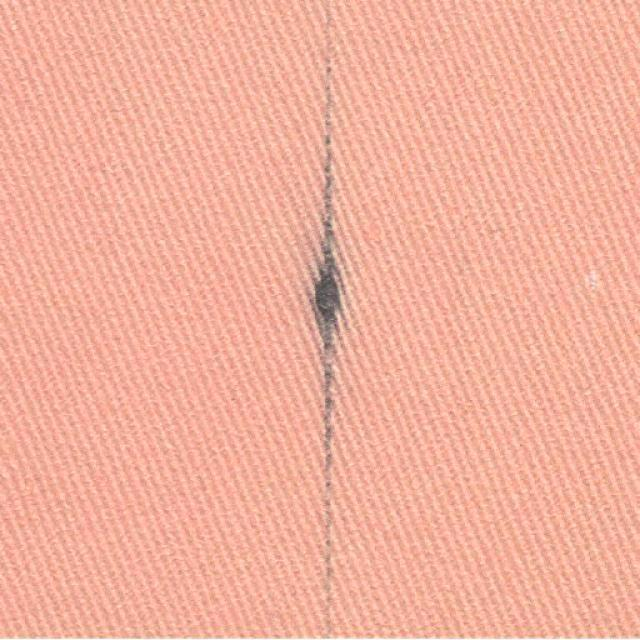stains: (199, 9, 426, 640)
